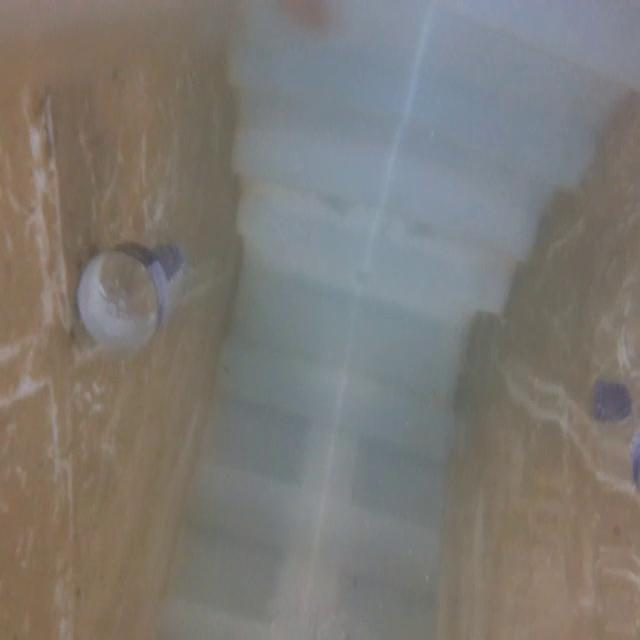plastic bottle: (63, 232, 201, 394), (577, 321, 640, 501)
